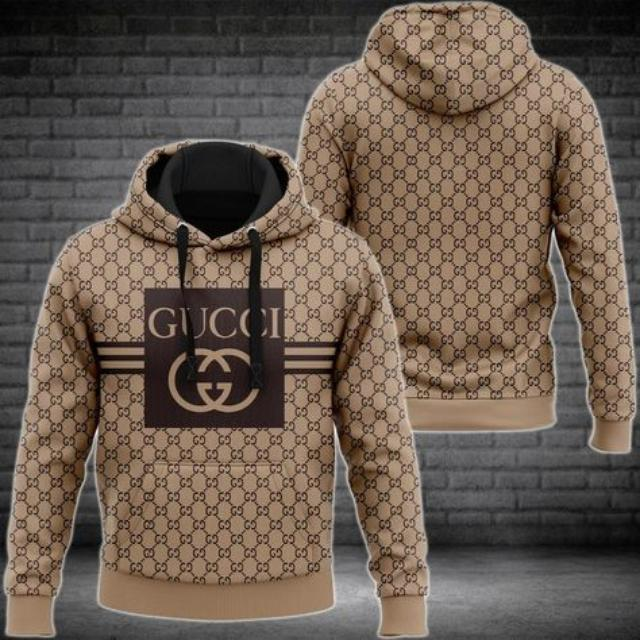Gucci: (143, 298, 284, 422)
